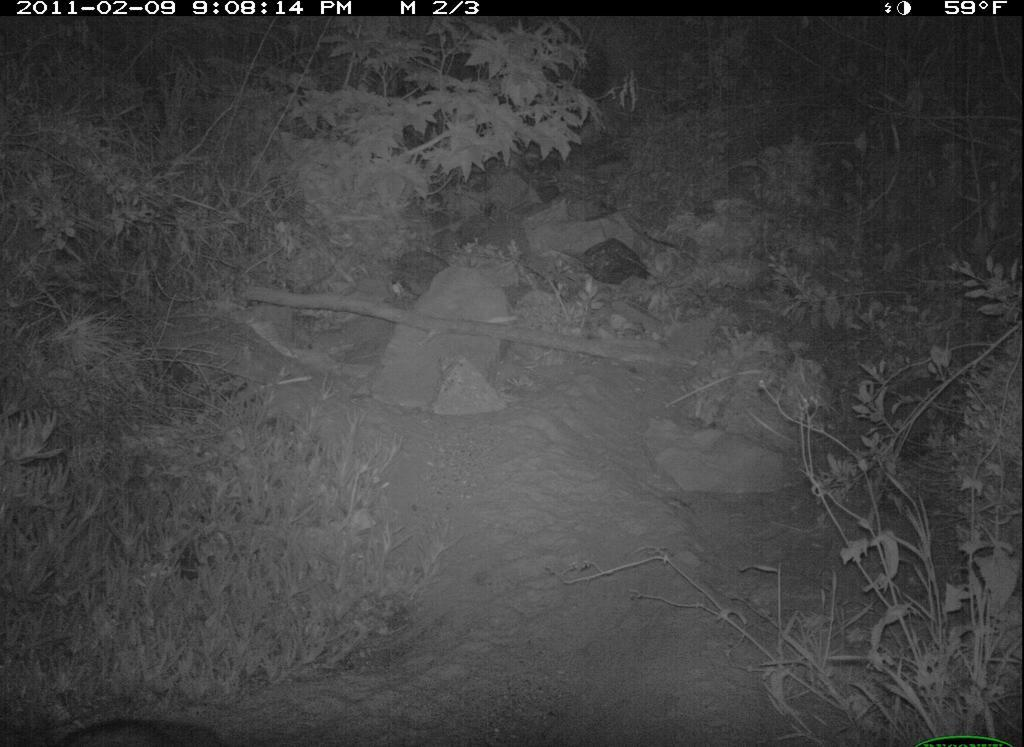raccoon: (38, 711, 249, 747)
